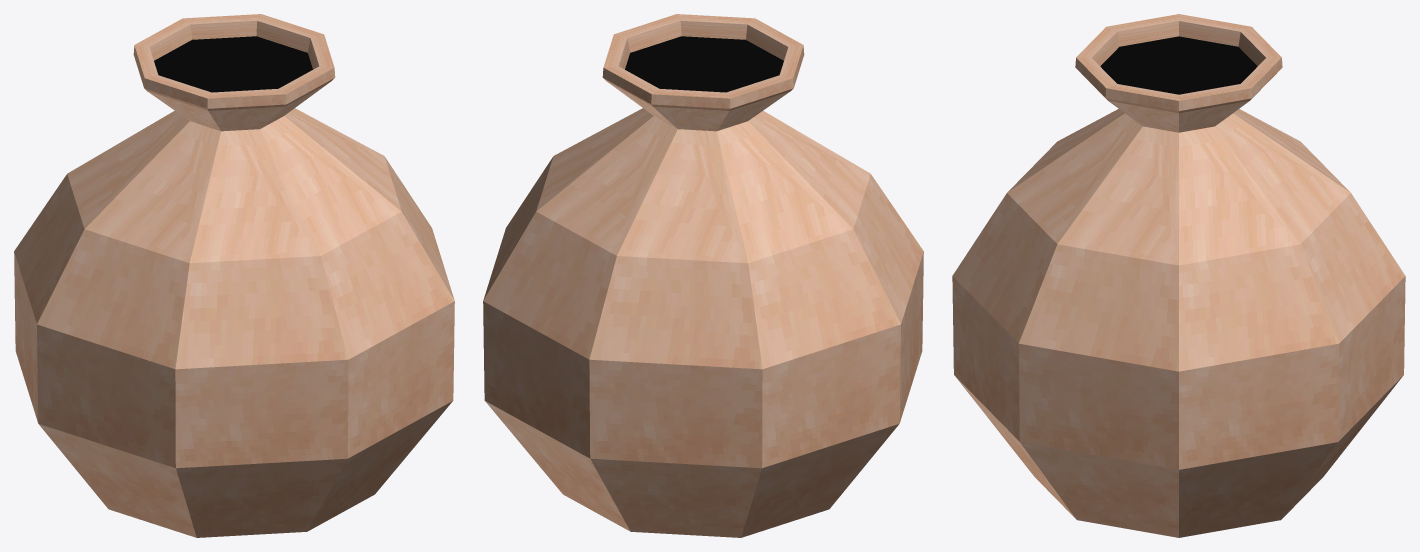
Rendered from wide_vase.obj.
3 views of the same model, side by side, from view 1: azimuth 30°, elevation 25°; view 2: azimuth 150°, elevation 25°; view 3: azimuth 270°, elevation 25° (orthographic).
Parts seen in each view (by area): view 1: Wide_vase; view 2: Wide_vase; view 3: Wide_vase.
Part boxes in pixels (x1=…): Wide_vase: x1=14, y1=14, x2=454, y2=537; Wide_vase: x1=483, y1=14, x2=923, y2=537; Wide_vase: x1=952, y1=14, x2=1405, y2=537.
Size of the model in its own units: 0.9532 by 0.9734 by 0.9532.
